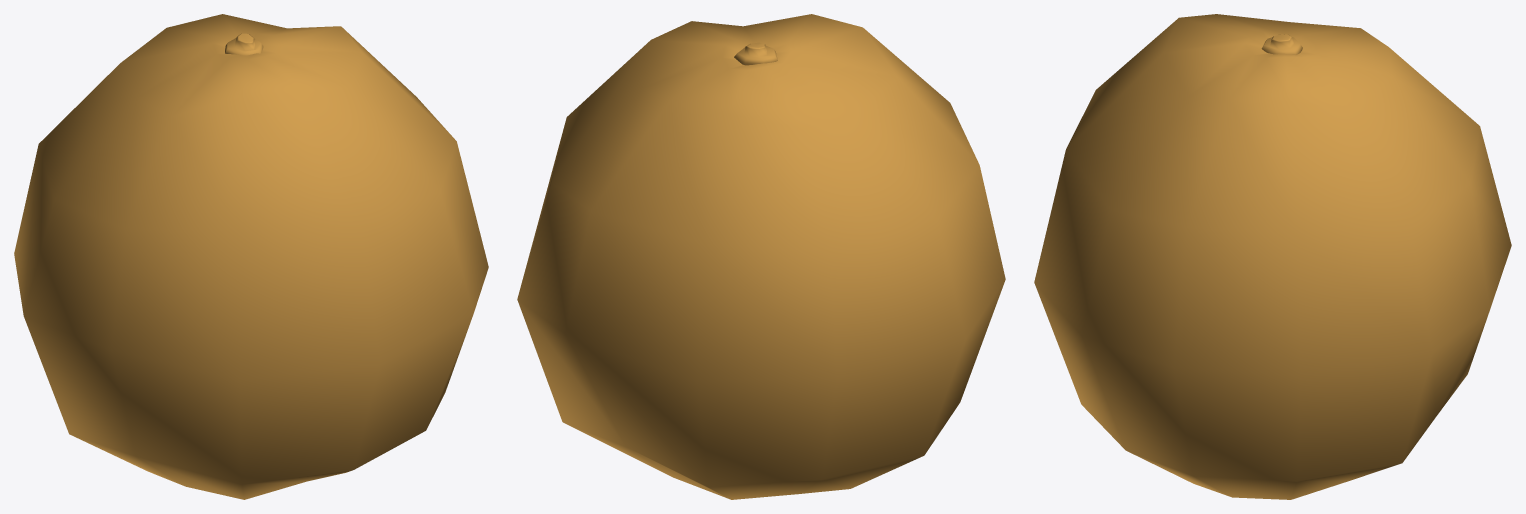
File: GMO_orange_low.fbx
The picture shows the model from 3 angles, left to right: view 1: azimuth 30°, elevation 25°; view 2: azimuth 150°, elevation 25°; view 3: azimuth 270°, elevation 25°; orthographic projection.
Visible parts, largest first — view 1: orange_skin, nub; view 2: orange_skin, nub; view 3: orange_skin, nub.
Boxes of the visible parts, x1,y1,x2,y2 form: orange_skin: (14,14,488,499); nub: (225,33,263,55); orange_skin: (517,14,1005,499); nub: (734,42,777,65); orange_skin: (1034,14,1511,499); nub: (1261,34,1302,54).
Bounding box in the file's own units: 16.79 × 16 × 16.5.
